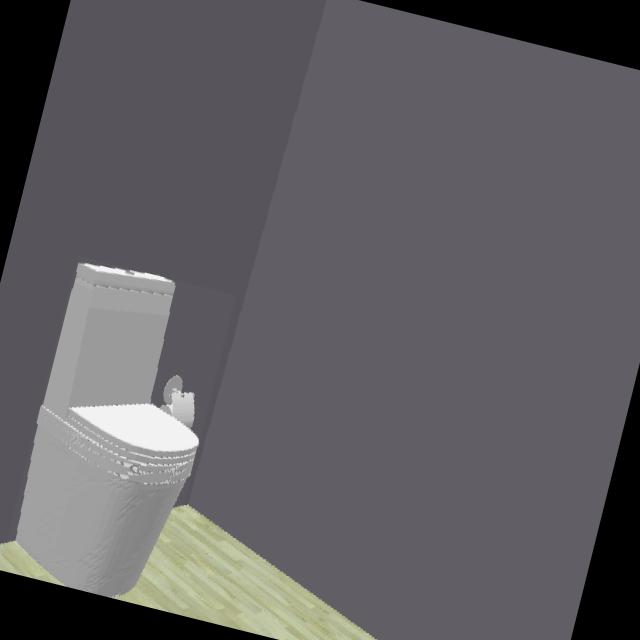toilet: (15, 264, 199, 599)
